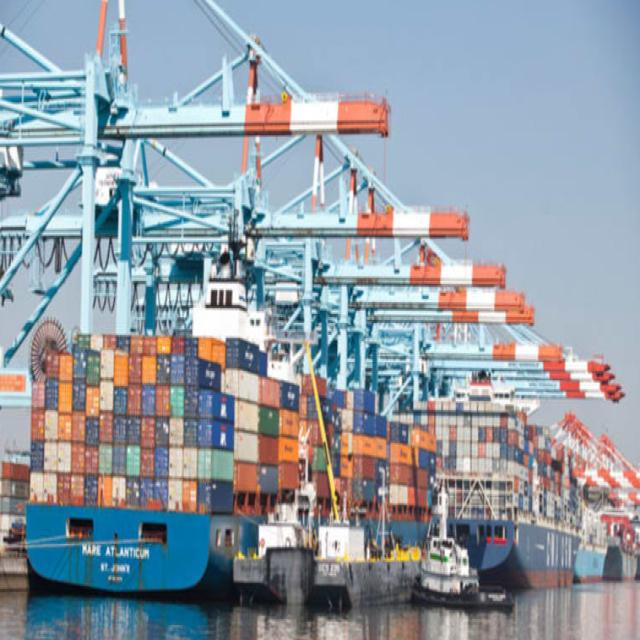boat: (21, 298, 455, 630), (401, 340, 587, 598)
